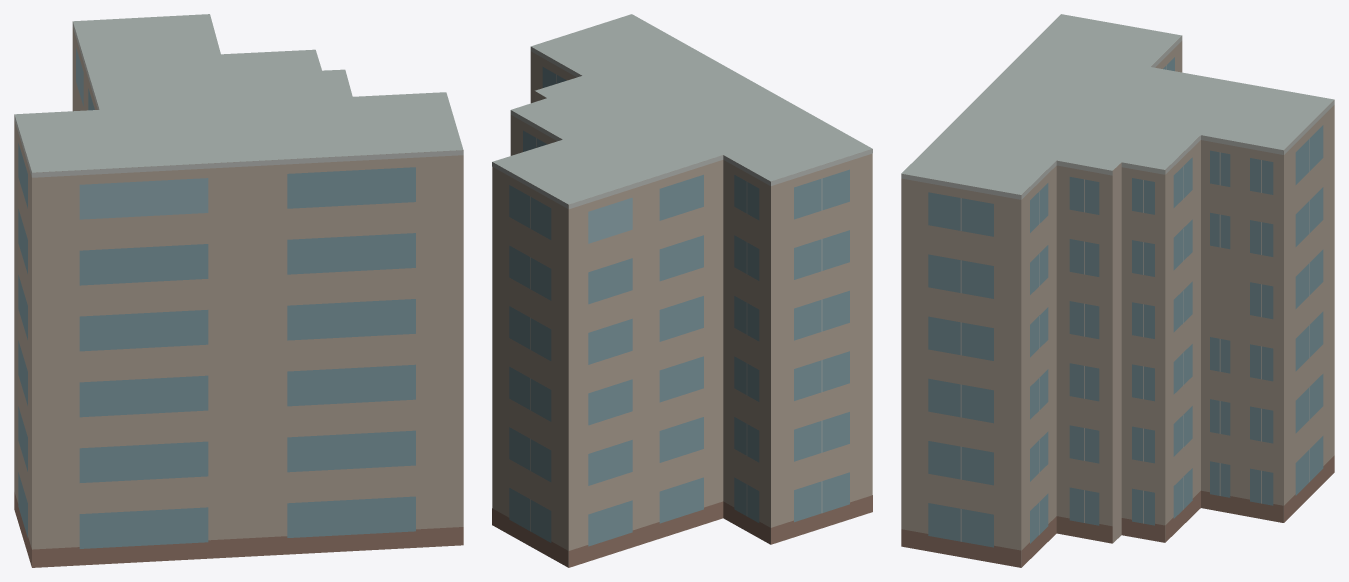
Rendered from survey-upis-32571178.glb.
3 views of the same model, side by side, from view 1: azimuth 30°, elevation 25°; view 2: azimuth 150°, elevation 25°; view 3: azimuth 270°, elevation 25° (orthographic). The views are drawn at different scales.
Visible parts, largest first — view 1: survey-upis-32571178.tmp; view 2: survey-upis-32571178.tmp; view 3: survey-upis-32571178.tmp.
Boxes of the visible parts, x1=… form: survey-upis-32571178.tmp: x1=14, y1=14, x2=463, y2=567; survey-upis-32571178.tmp: x1=492, y1=14, x2=872, y2=567; survey-upis-32571178.tmp: x1=901, y1=14, x2=1334, y2=567.
Size of the model in its own units: 19.59 by 18.8 by 19.82.
